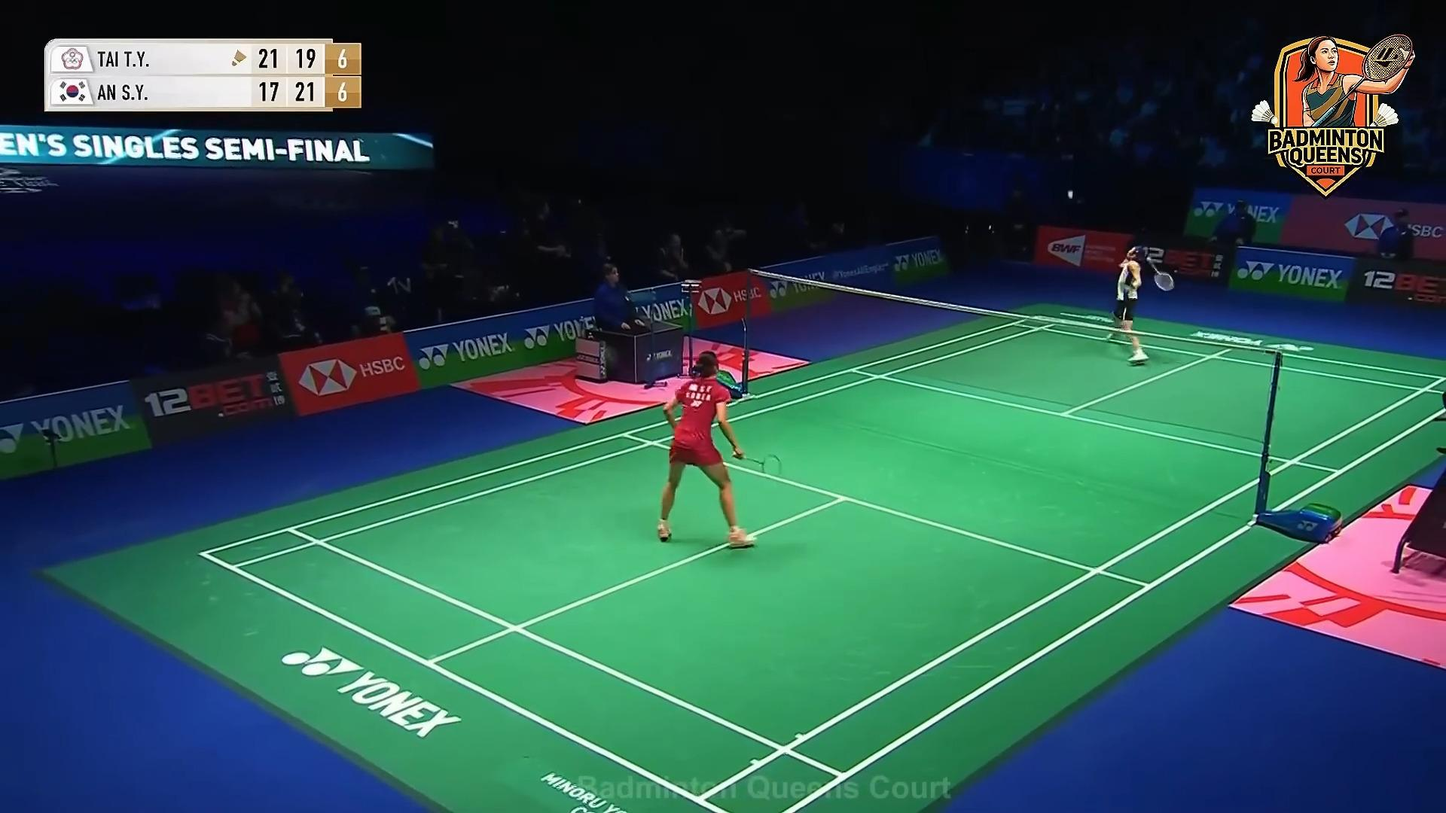shuttlecock: (1066, 190, 1073, 198)
